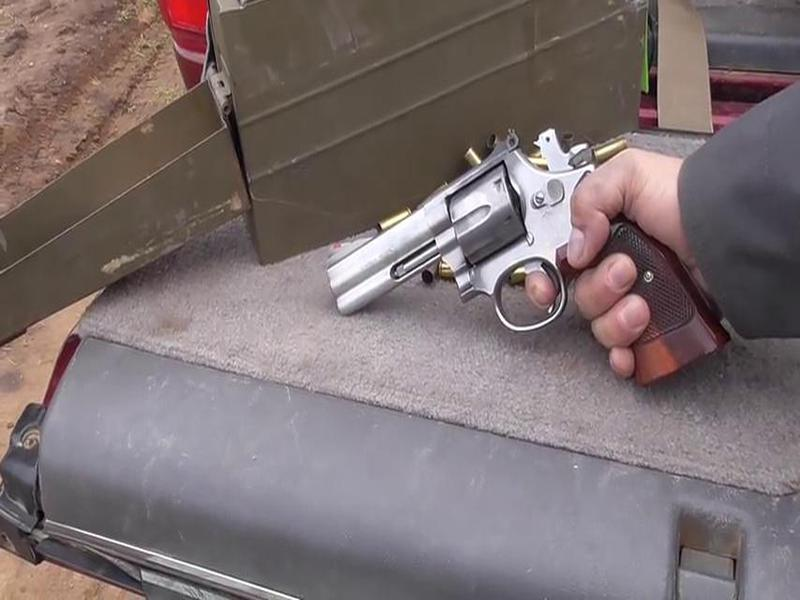Revolver: (328, 80, 725, 391)
